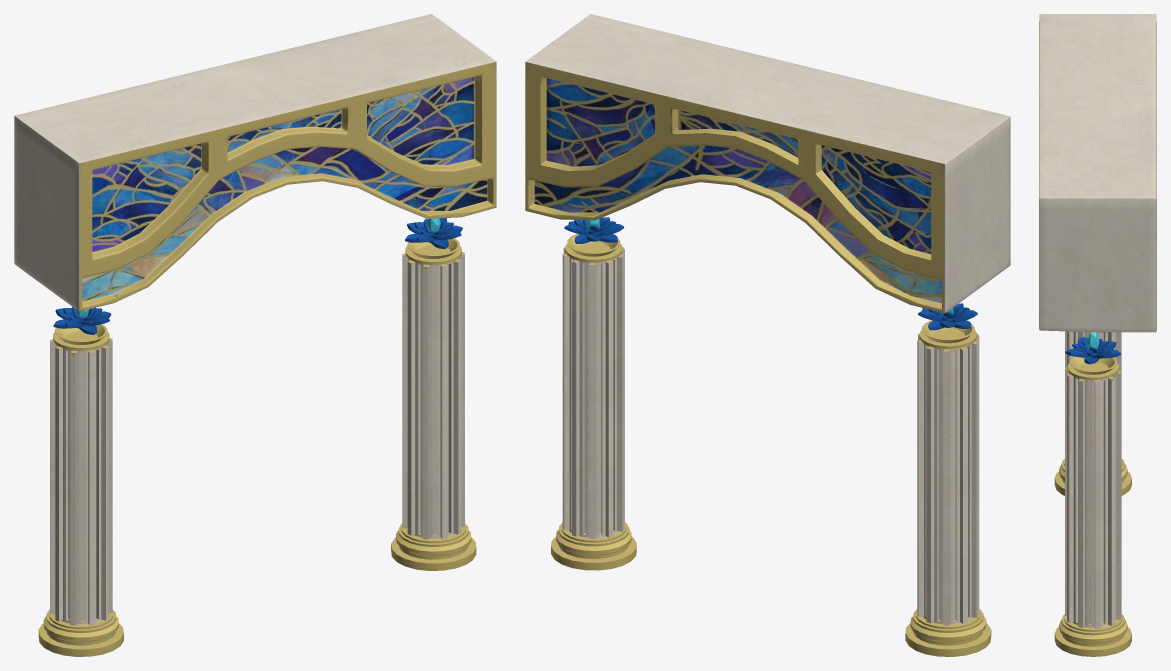
Rendered from archway_lowPolyCompressed.glb.
The picture shows the model from 3 angles, left to right: view 1: azimuth 30°, elevation 25°; view 2: azimuth 150°, elevation 25°; view 3: azimuth 270°, elevation 25°; orthographic projection. The views are drawn at different scales.
Parts seen in each view (by area): view 1: archway_polySurface71; view 2: archway_polySurface71; view 3: archway_polySurface71.
Boxes of the visible parts, bbox=[...] form: archway_polySurface71: bbox=[14, 14, 496, 656]; archway_polySurface71: bbox=[525, 14, 1010, 656]; archway_polySurface71: bbox=[1039, 14, 1156, 656].
Size of the model in its own units: 1.73 by 1.96 by 0.4576.
3 materials, 1 textured.
